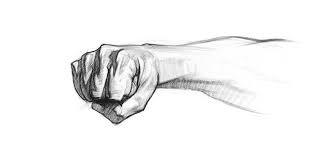fist: (71, 47, 152, 115)
